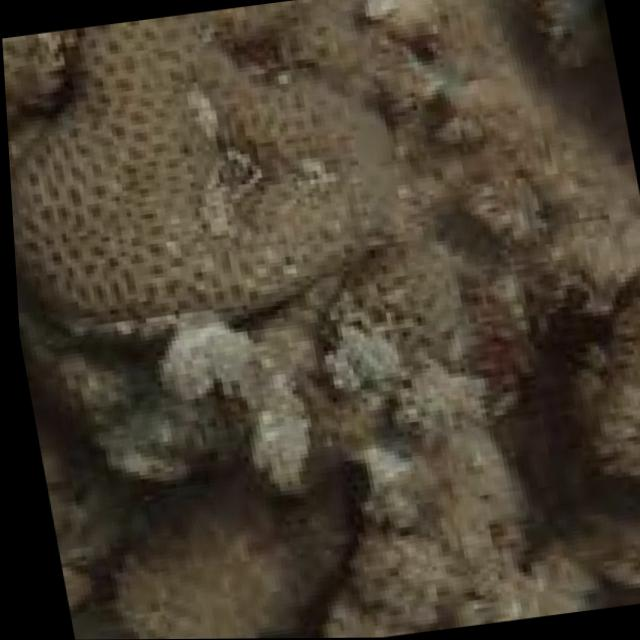Bleached Coral: (326, 270, 492, 516), (125, 307, 313, 496)
